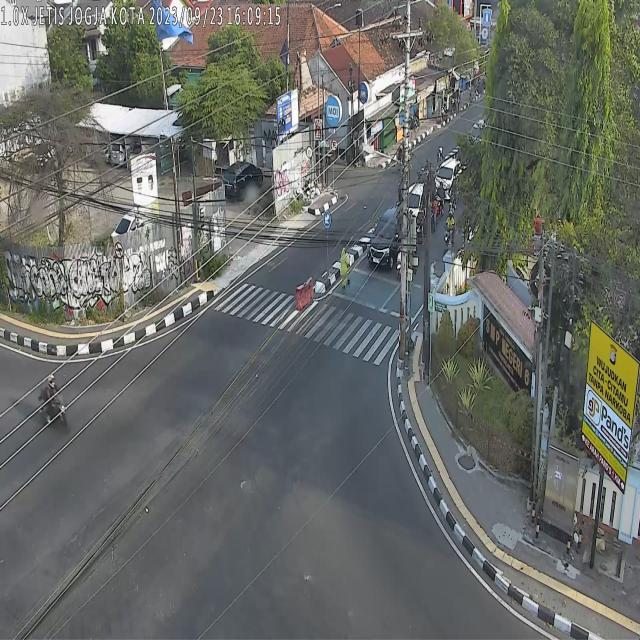car: (367, 205, 401, 270), (434, 158, 462, 201), (408, 182, 426, 222)
motorcycle: (37, 372, 69, 431), (443, 208, 456, 251), (434, 180, 446, 218), (416, 206, 425, 247), (430, 194, 438, 235)
